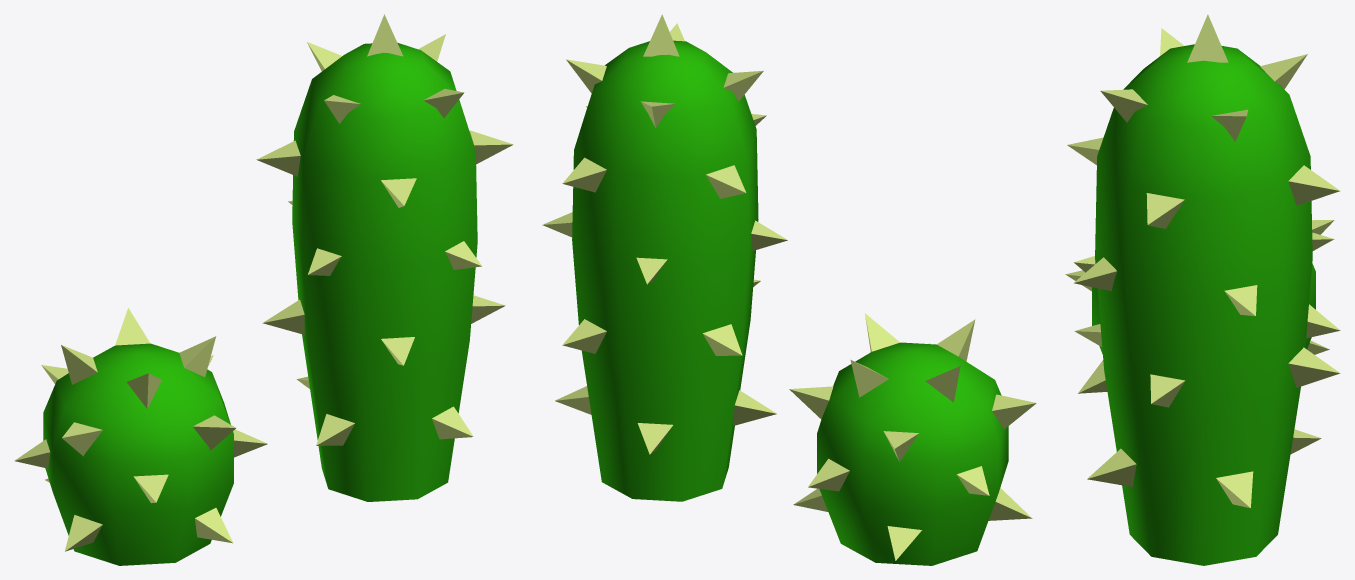
Rendered from cactus.fbx.
3 renders of one model, left to right at view 1: azimuth 30°, elevation 25°; view 2: azimuth 150°, elevation 25°; view 3: azimuth 270°, elevation 25°, orthographic. The views are drawn at different scales.
Visible parts, largest first — view 1: cactus1, cactus2; view 2: cactus1, cactus2; view 3: cactus1, cactus2.
Part boxes in pixels (x1,y1,x2,y2): cactus1: (256, 14, 513, 501); cactus2: (14, 308, 267, 565); cactus1: (542, 14, 787, 501); cactus2: (789, 313, 1036, 565); cactus1: (1067, 14, 1340, 565); cactus2: (1065, 220, 1340, 393).
Bounding box in the file's own units: 5.14 × 5.01 × 2.4.
